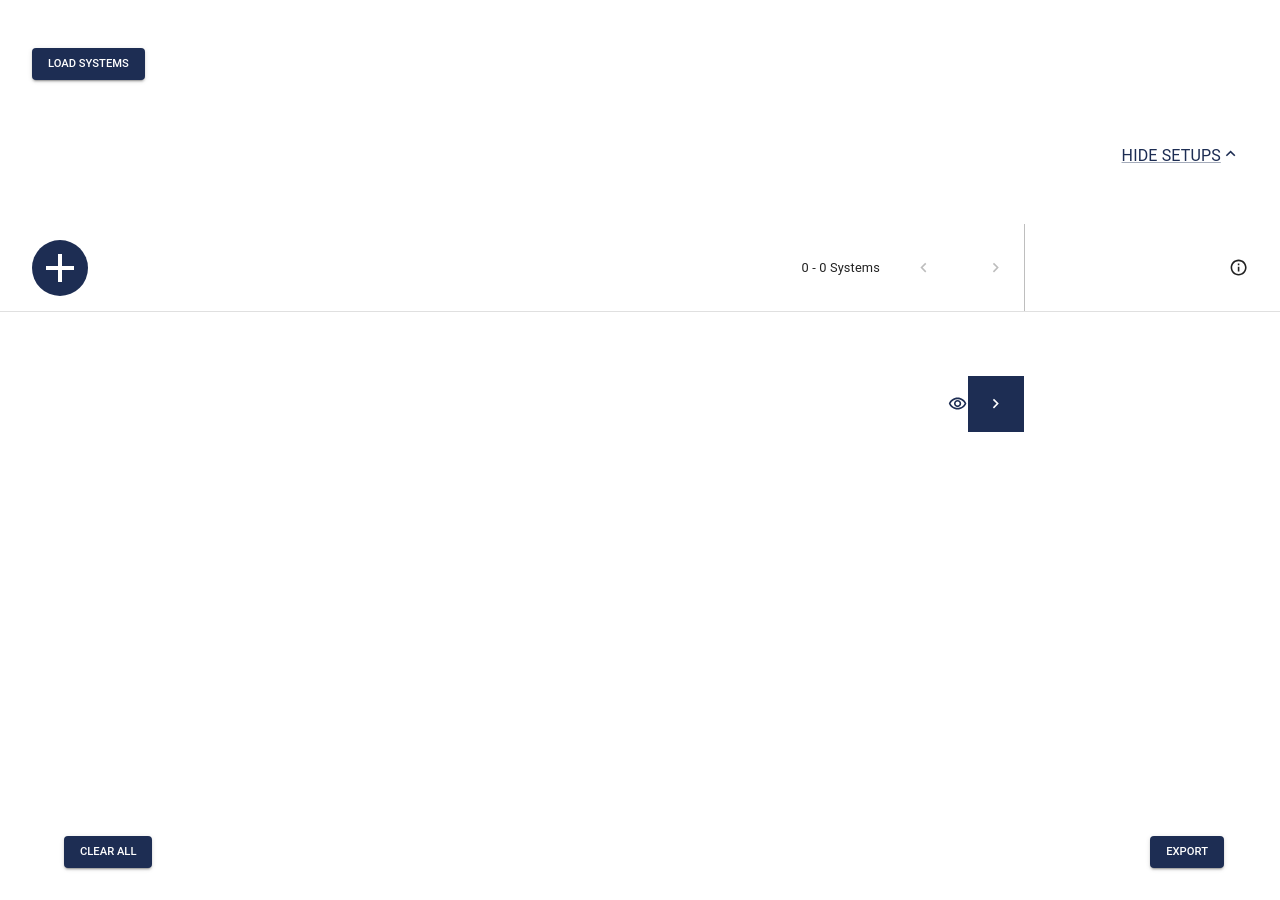
Scenario: System bar and stepper tests › Given User click on Load Systems and theres 5 or more system stepper should be enabled
This screenshot has width=1280, height=900.
Expected: the button with test id "test-id-button-stepper-back" is disabled, [896,240,952,296]
Expected: the button with test id "test-id-button-stepper-next" is disabled, [968,240,1024,296]
Step 1. Click the button with test id "test-id-button-load" → (88, 64), box [32,48,145,80]
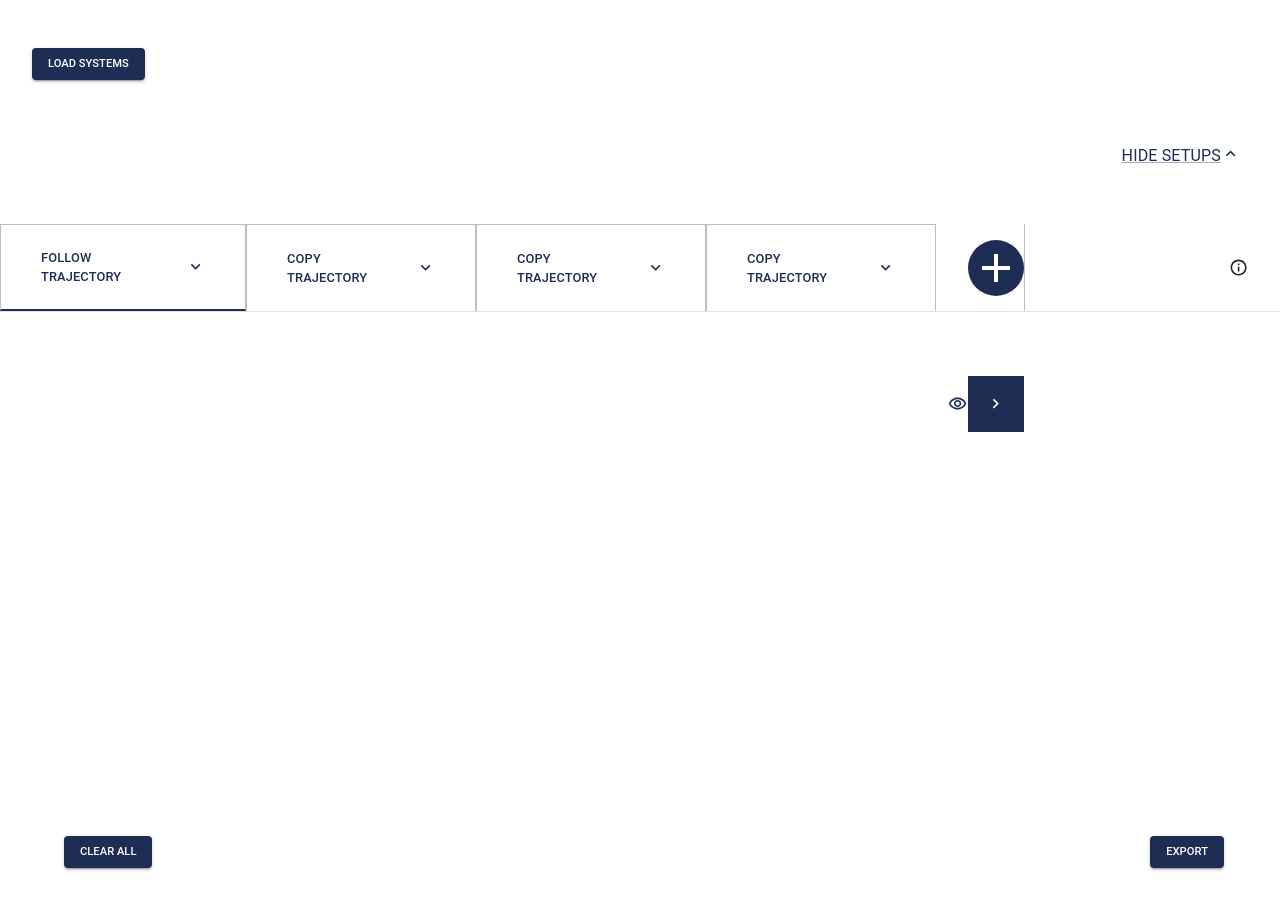
Result: the element with test id "test-id-system-1" is shown at [246,224,476,311]
Result: the text "4 - 5 Systems" is shown at [802,258,880,277]
Result: the button with test id "test-id-button-stepper-next" is enabled at [968,240,1024,296]
